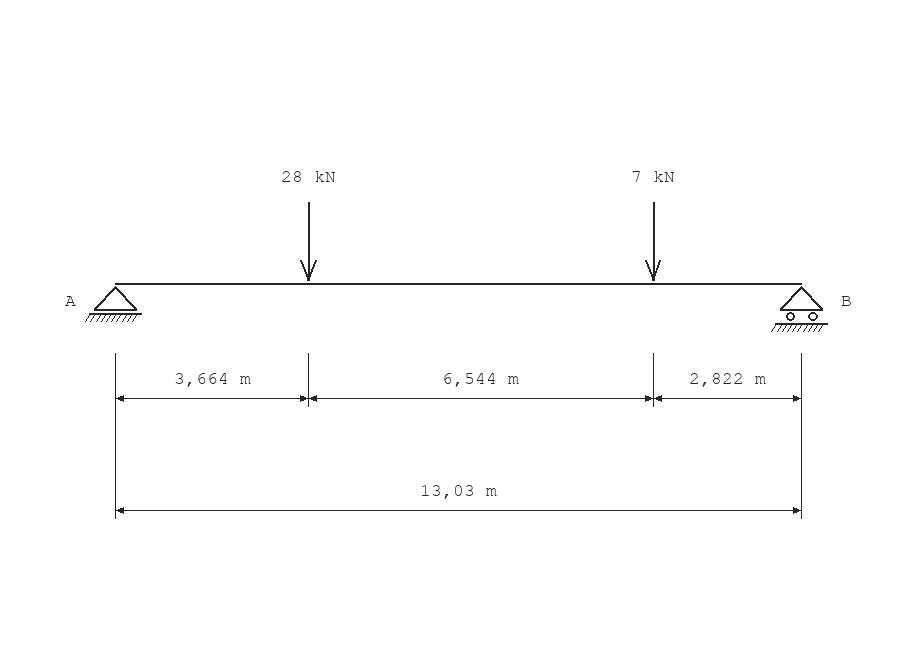pin_support: (85, 286, 142, 322)
point_load: (300, 202, 317, 281), (645, 202, 661, 281)
roller_support: (771, 286, 828, 332)
